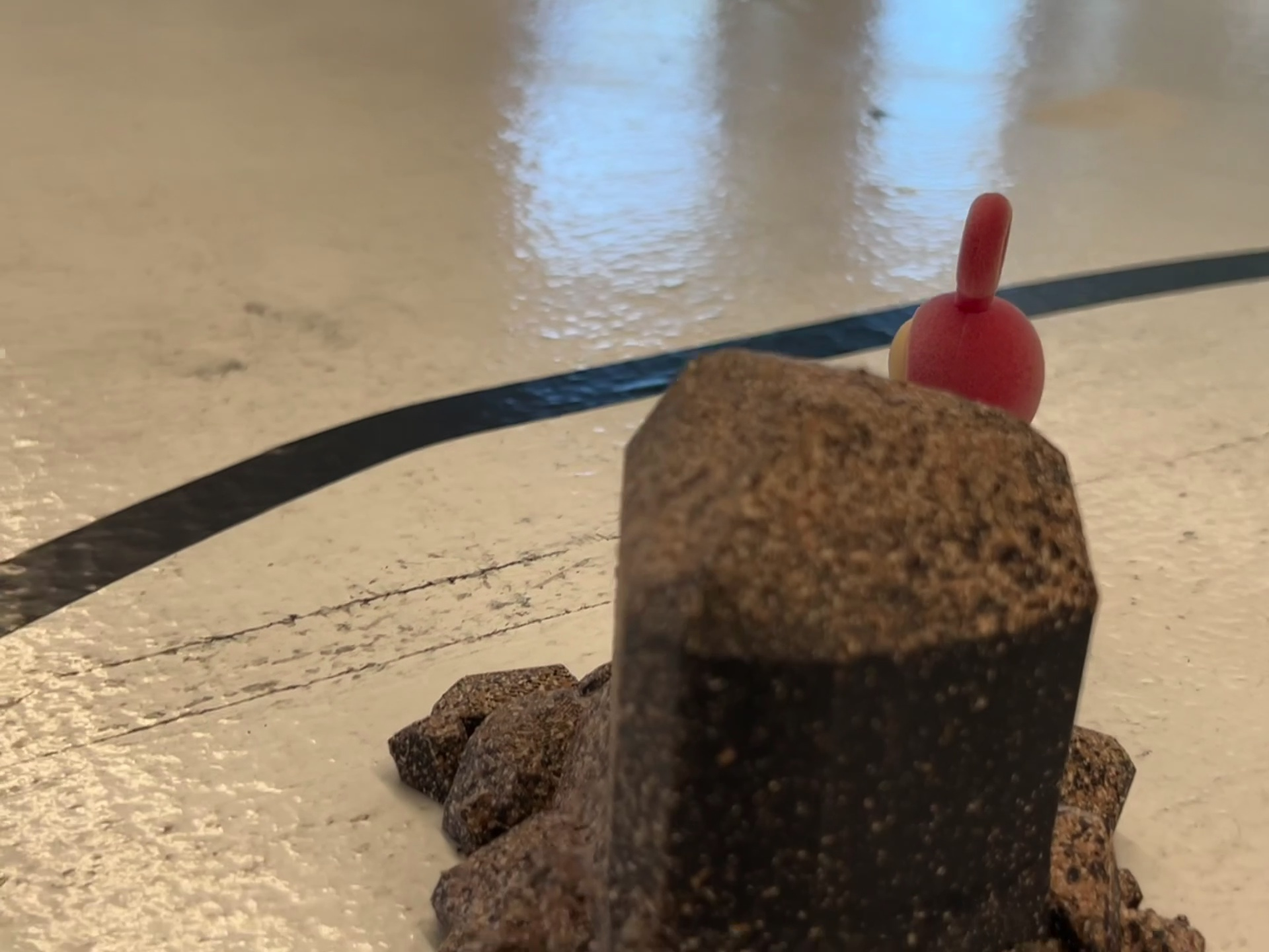teletubby: (889, 193, 1044, 423)
